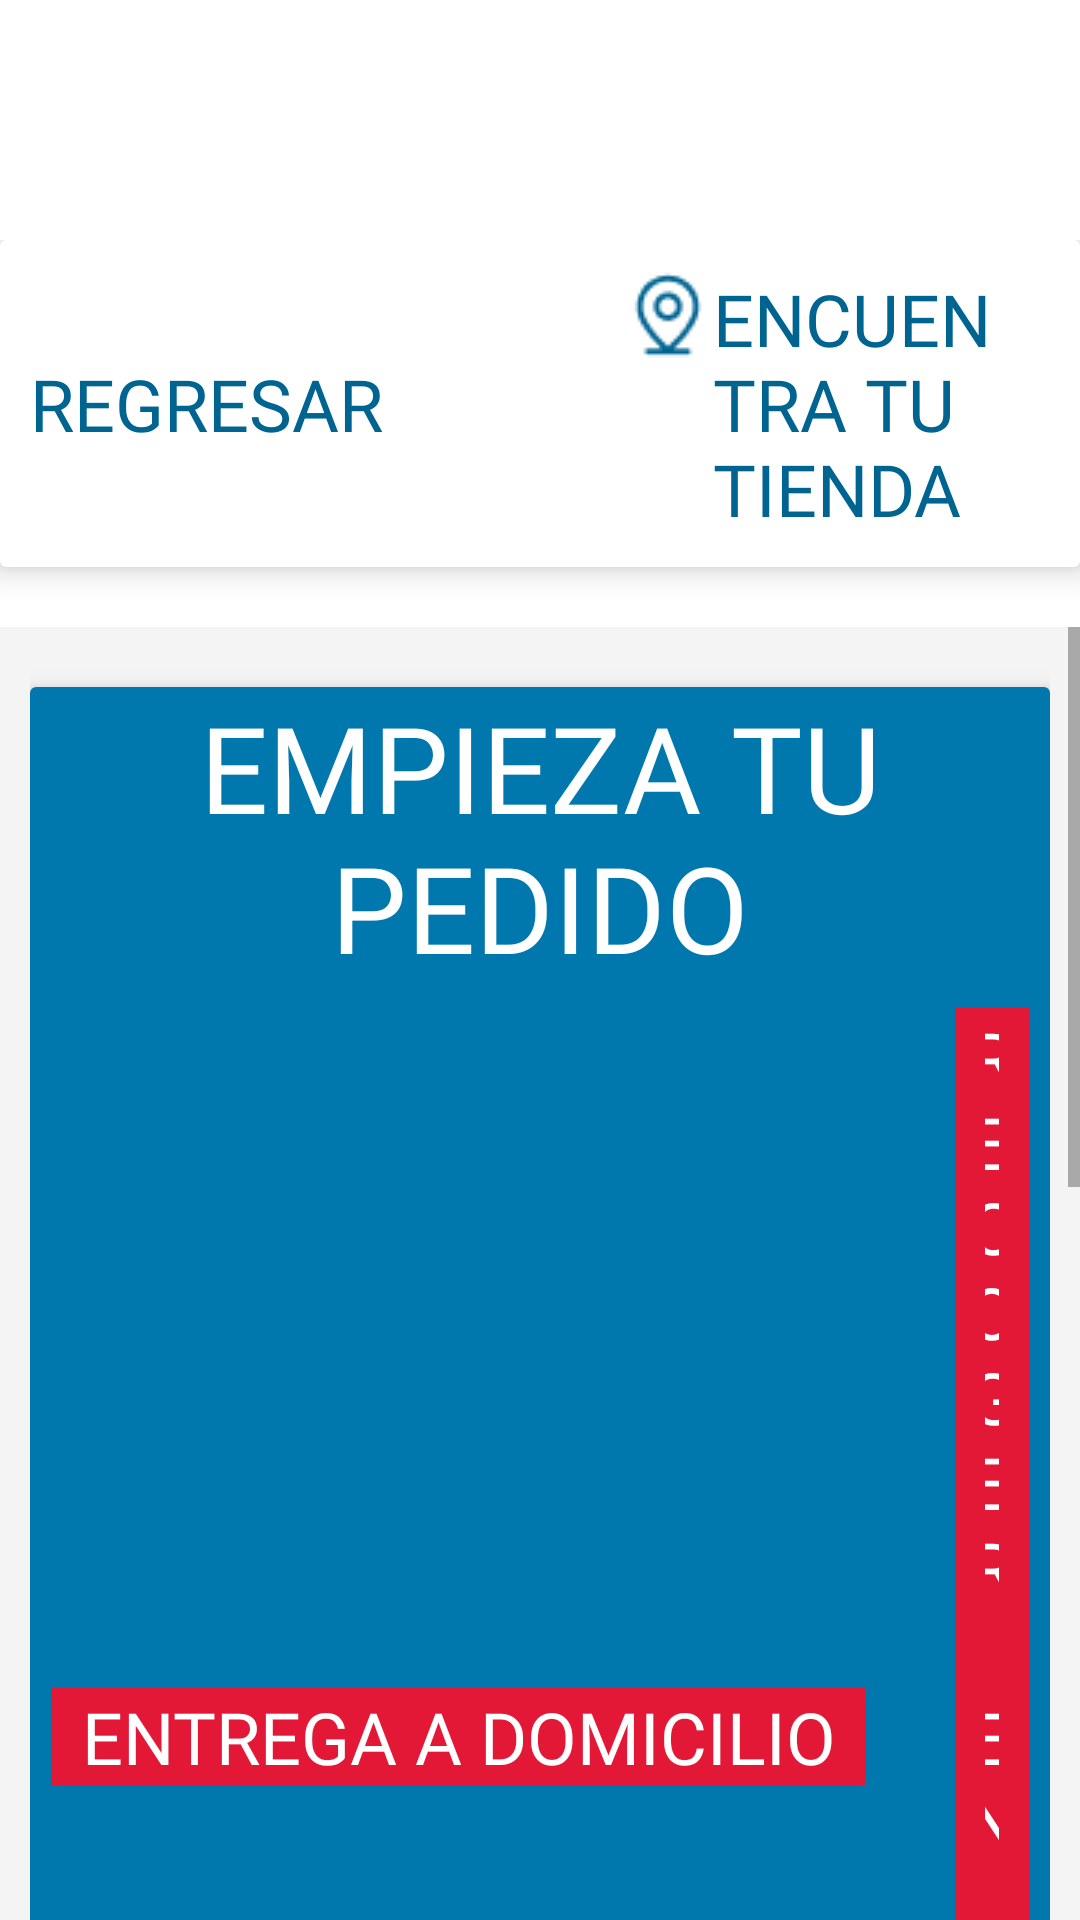

Where icons sit on this 1080px×1920px app screen, as (x1, y1, x2, y2):
location: (635, 274, 701, 356)
